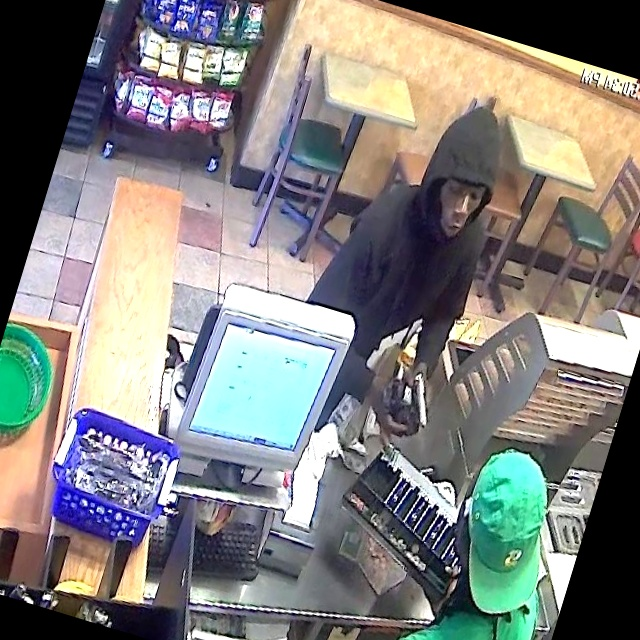gun: (392, 367, 444, 432)
